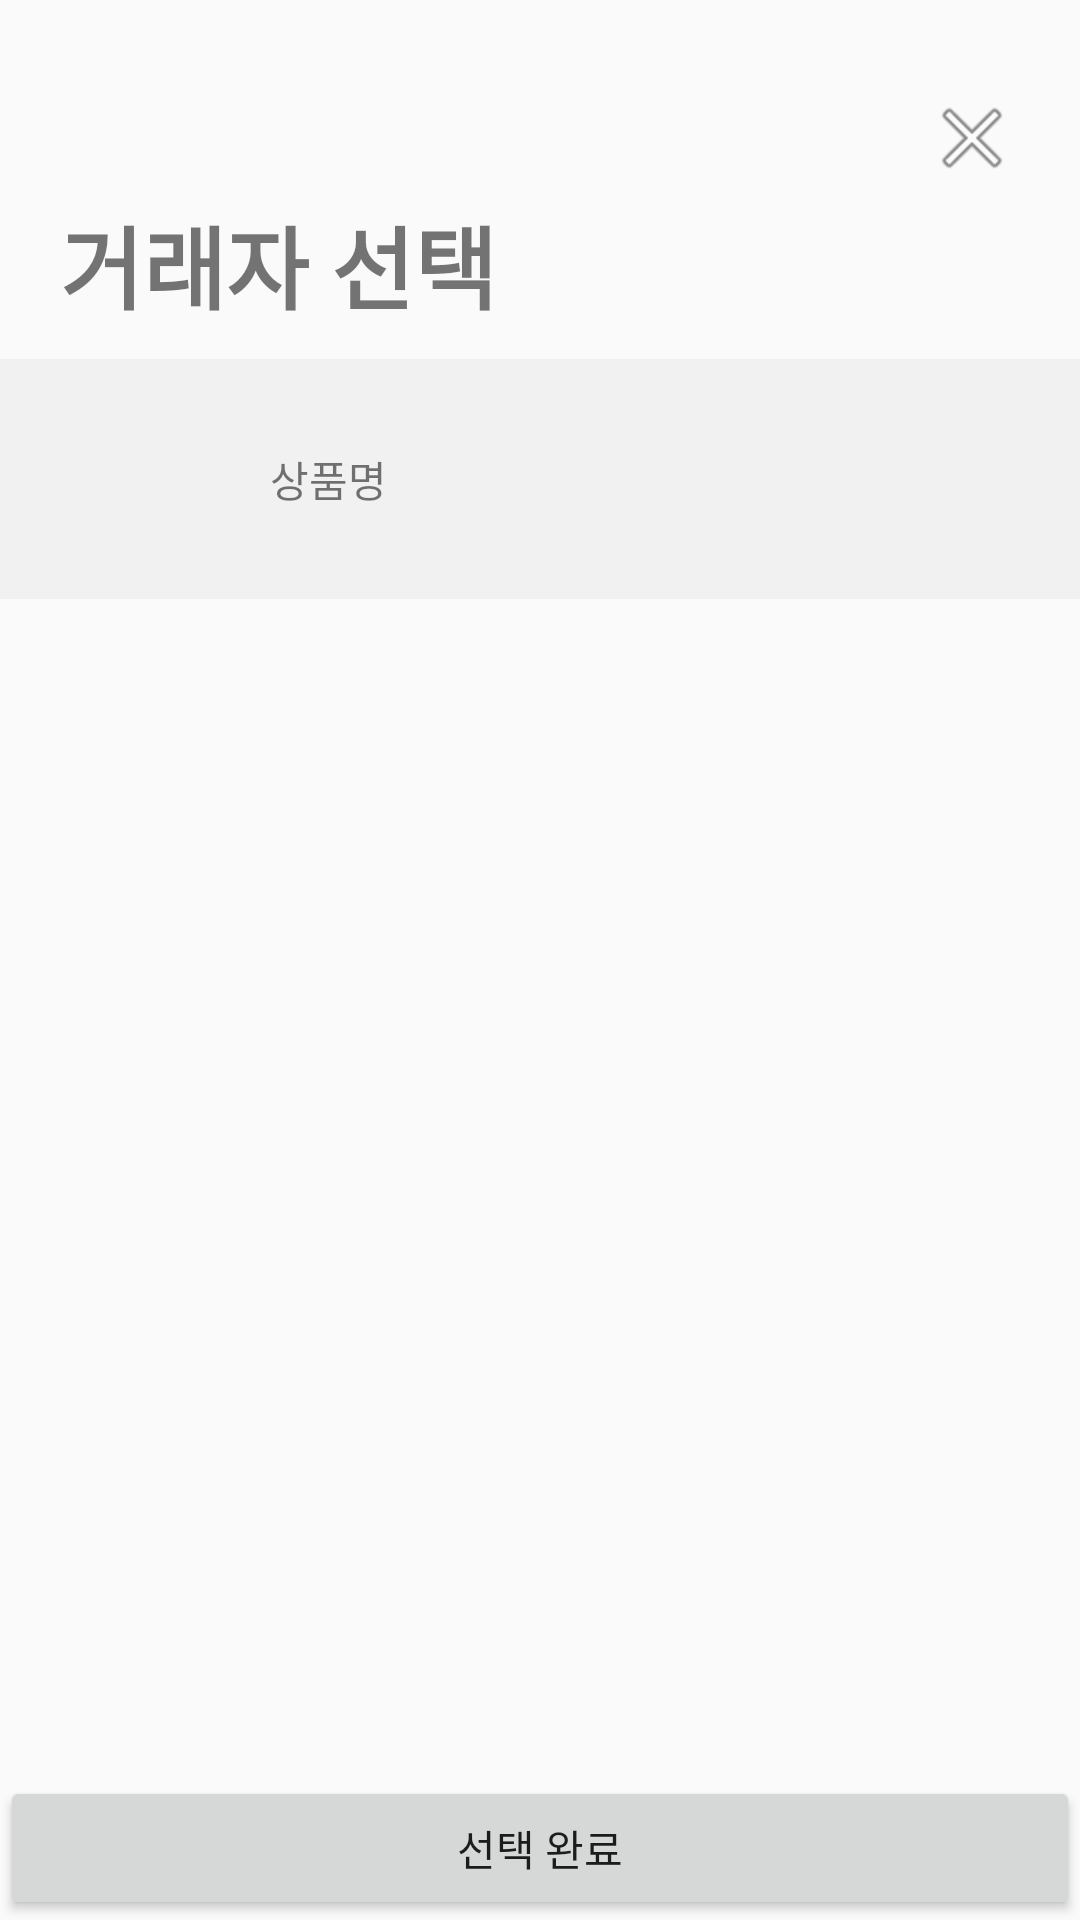

Point at icon controls on the screen. Image size 1080*1920, points as (x=x, y=y).
close clear cancel: (x=972, y=138)
